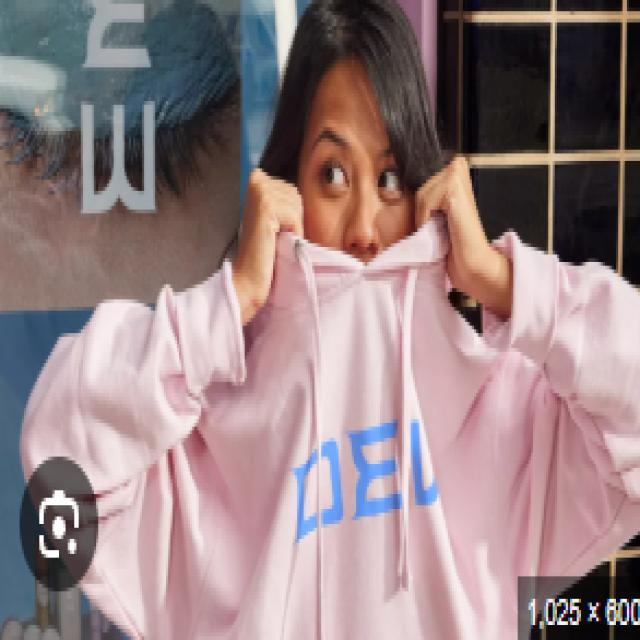8_ropa_rostro: (245, 159, 472, 432)
